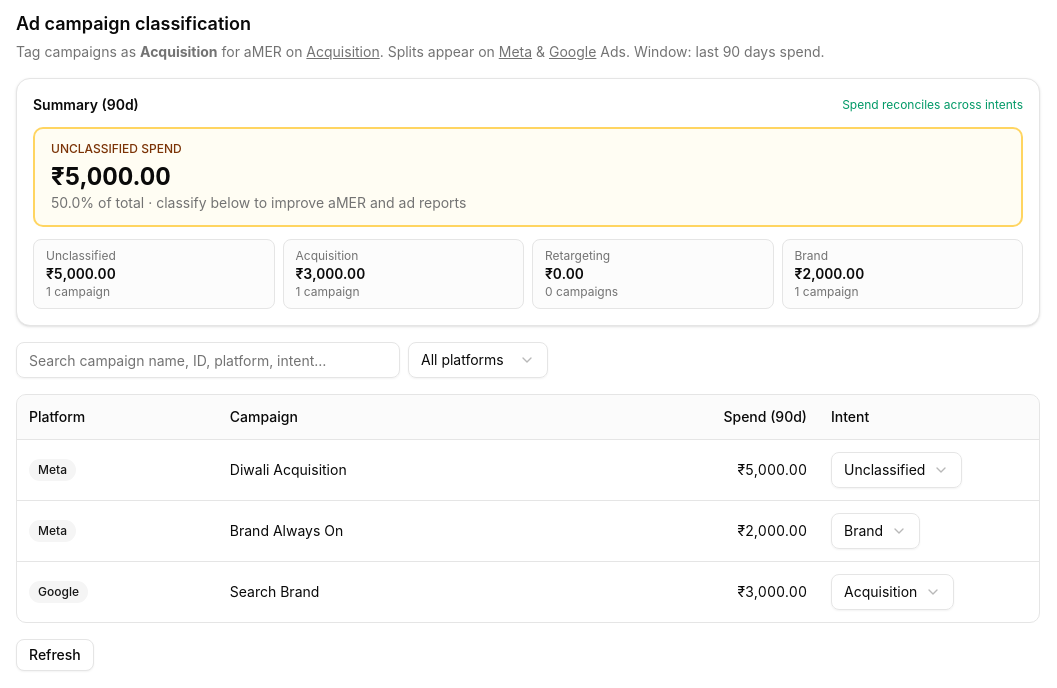
Test: AdCampaignsContent — search filtering › typing in search hides non-matching campaigns
Type "Diwali" into the search field with test id "campaign-search" at (208, 360), box 16,342 -> 400,378
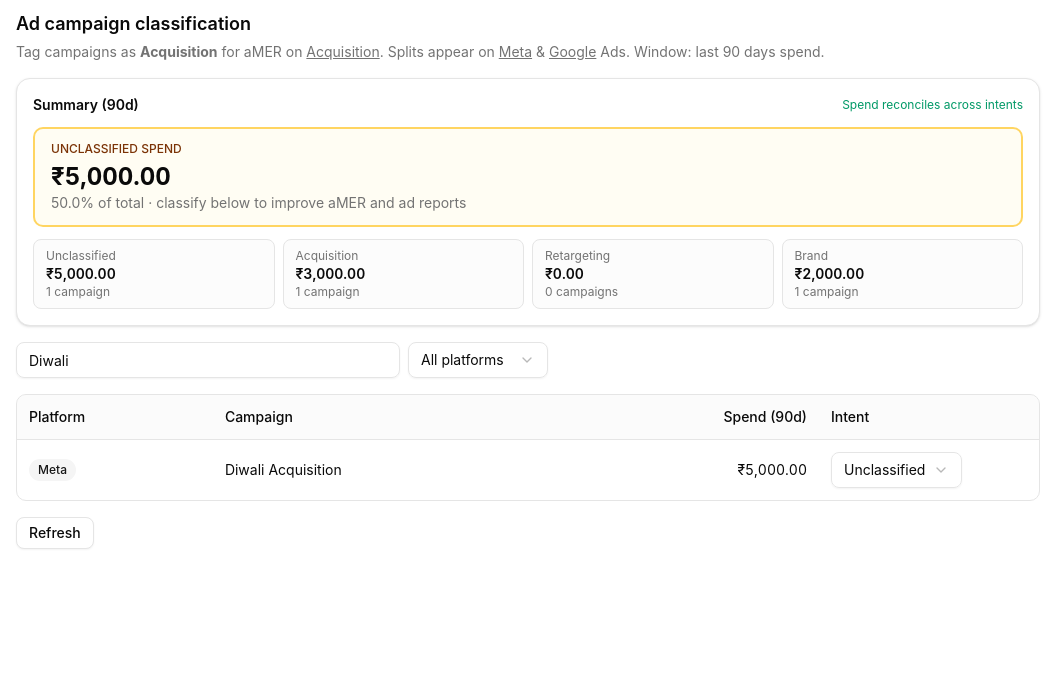
Expected: the text "Diwali Acquisition" is shown, 213,440 -> 557,500
Expected: the text "Brand Always On" is gone
Expected: the text "Search Brand" is gone
